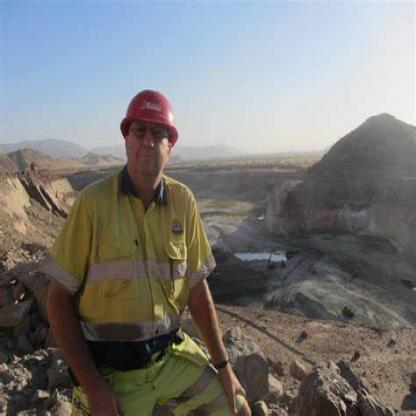person: (40, 84, 267, 415)
